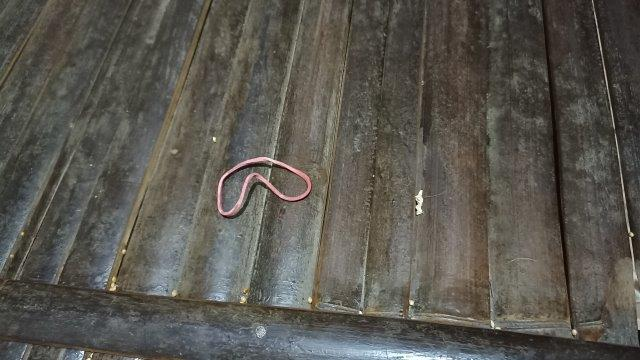karet: (217, 156, 312, 217)
